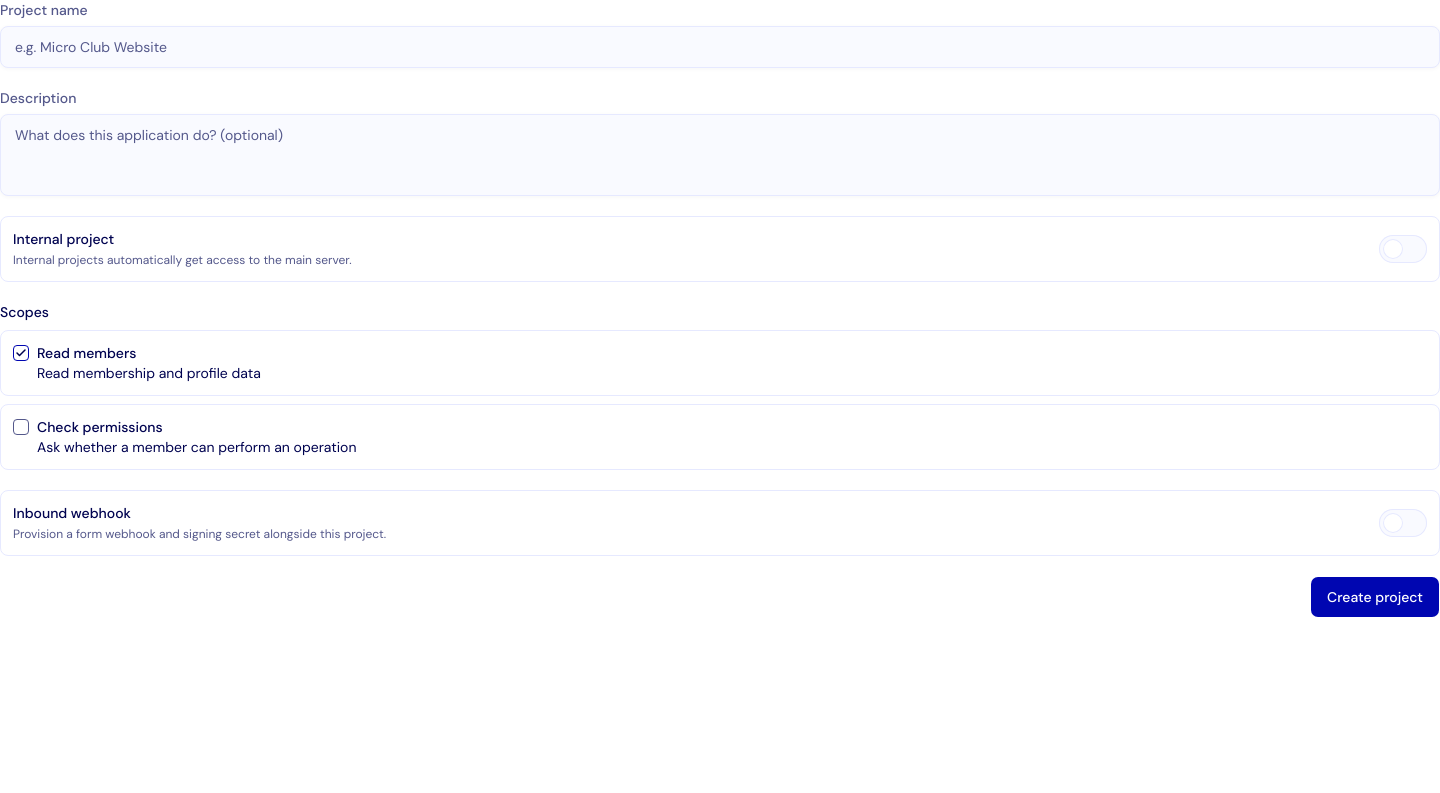
Test: ProjectForm switch labels › toggles the "Inbound webhook" switch when its label text is clicked
The image size is (1440, 793).
Expected: the switch named "Inbound webhook" in the row of "Inbound webhook" is not checked, [1379,509,1427,537]
Step 1. Click the checkbox "Inbound webhook" → [72, 513], box [13,504,131,522]
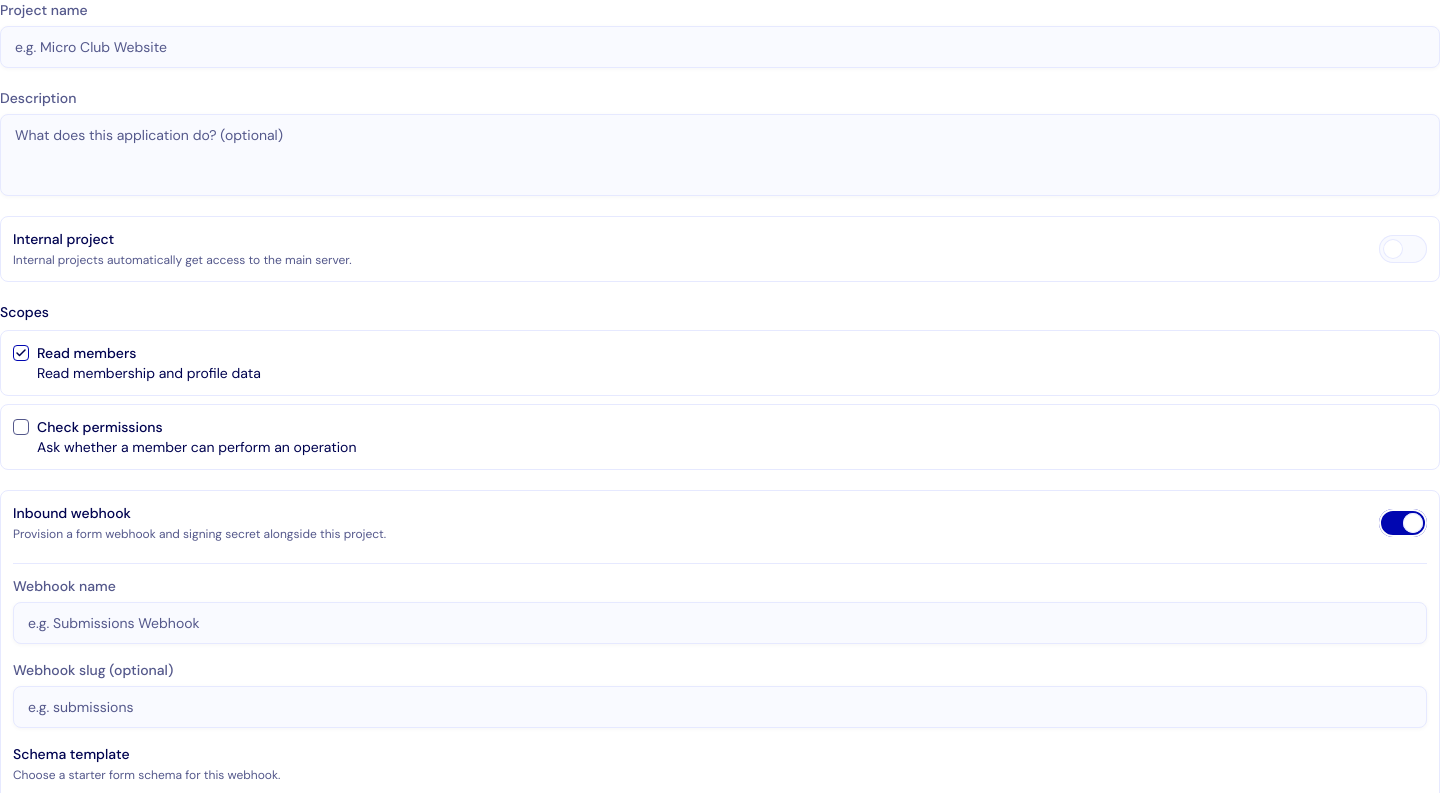
Result: the switch named "Inbound webhook" in the row of "Inbound webhook" is checked at [1379,509,1427,537]
